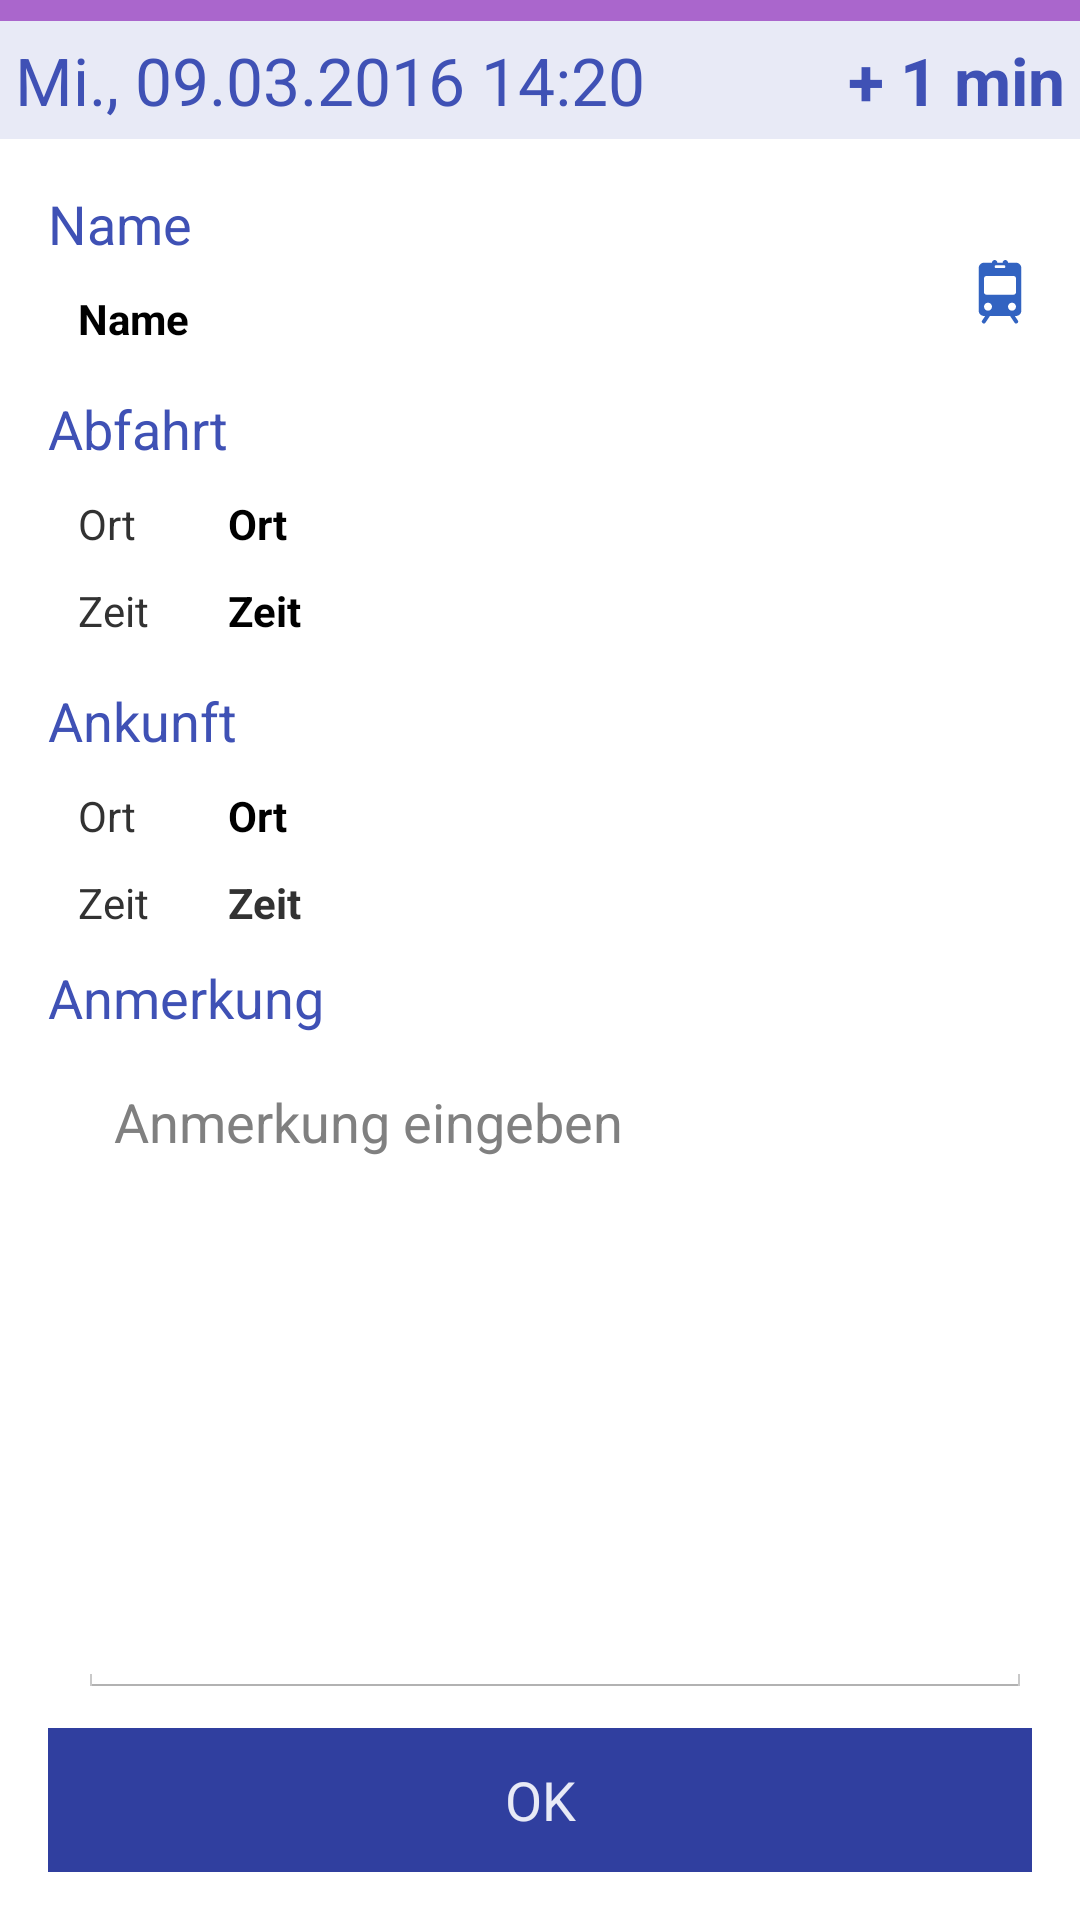

Icon click points for this 1080 × 1920 phone screenshot, format [x,y]:
Art der Verbindung: [1000,292]
